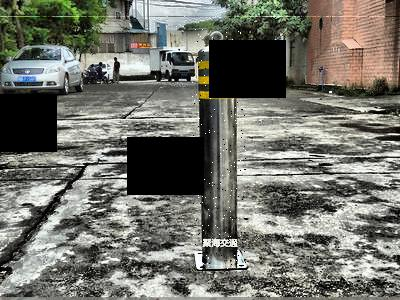bench: (192, 28, 247, 270)
